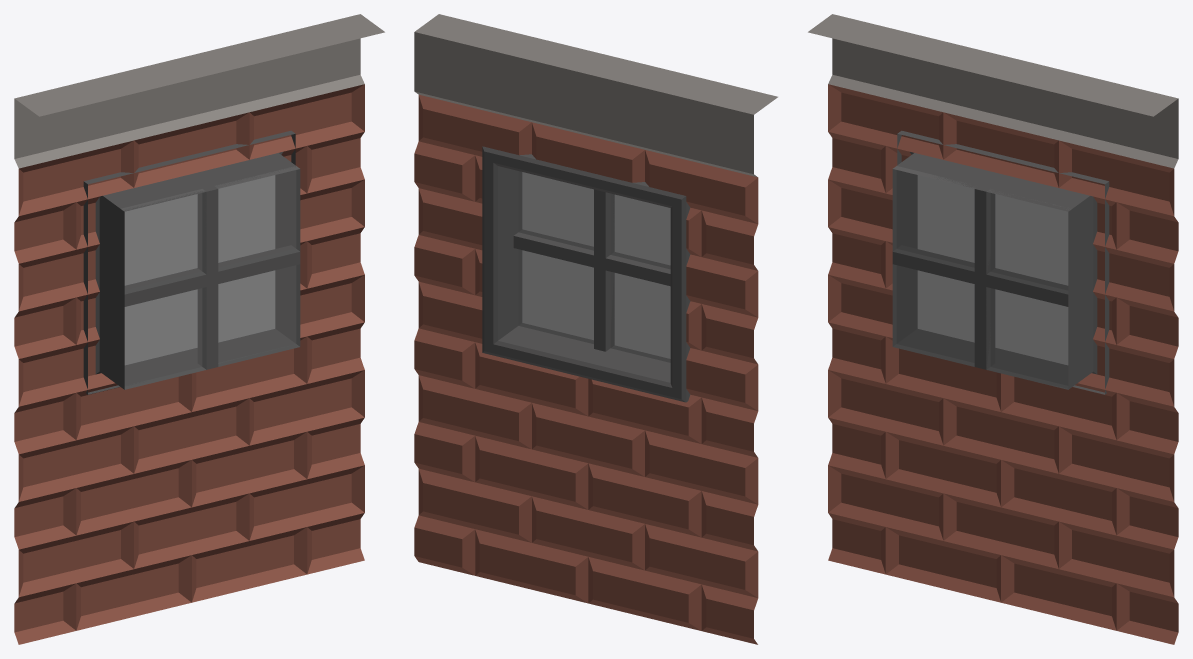
The model's file is Brick_window.fbx.
The picture shows the model from 3 angles, left to right: view 1: azimuth 30°, elevation 25°; view 2: azimuth 150°, elevation 25°; view 3: azimuth 330°, elevation 25°; orthographic projection.
Parts seen in each view (by area): view 1: Wall_1.011; view 2: Wall_1.011; view 3: Wall_1.011.
Part boxes in pixels (box(x1,y1,x2,y2)): Wall_1.011: box(14, 14, 384, 644); Wall_1.011: box(414, 14, 777, 644); Wall_1.011: box(808, 14, 1178, 644).
Size of the model in its own units: 200 by 300 by 26.32.
